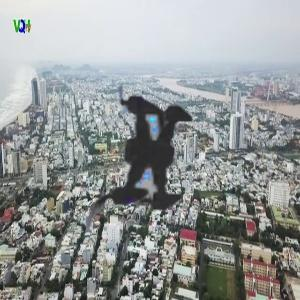drone: (15, 10, 294, 289)
